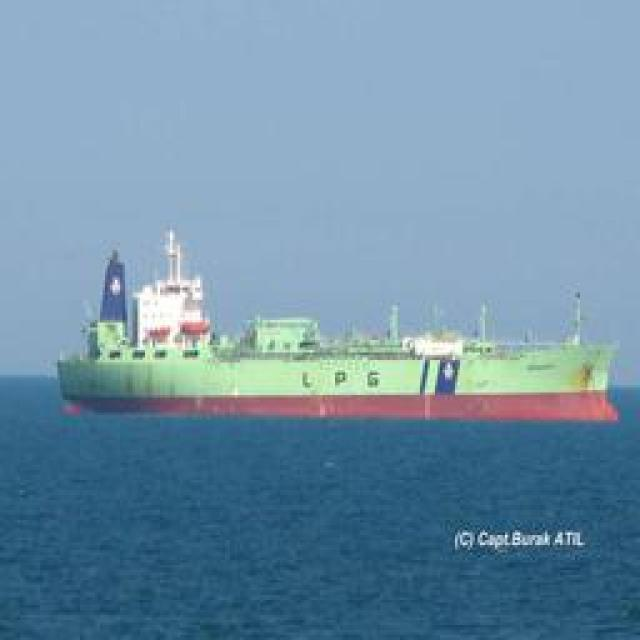CIV_Ship: (44, 254, 624, 414)
